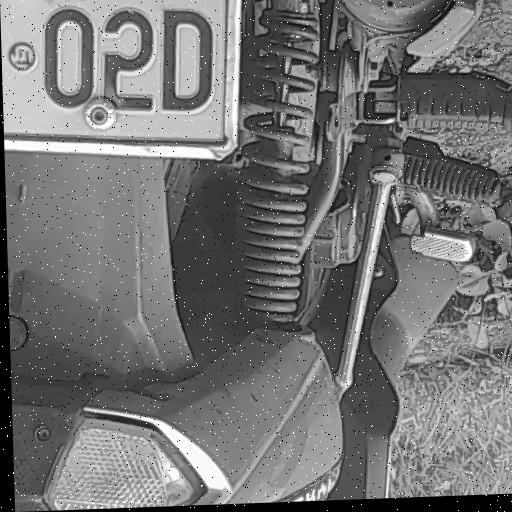placa: (0, 0, 244, 157)
